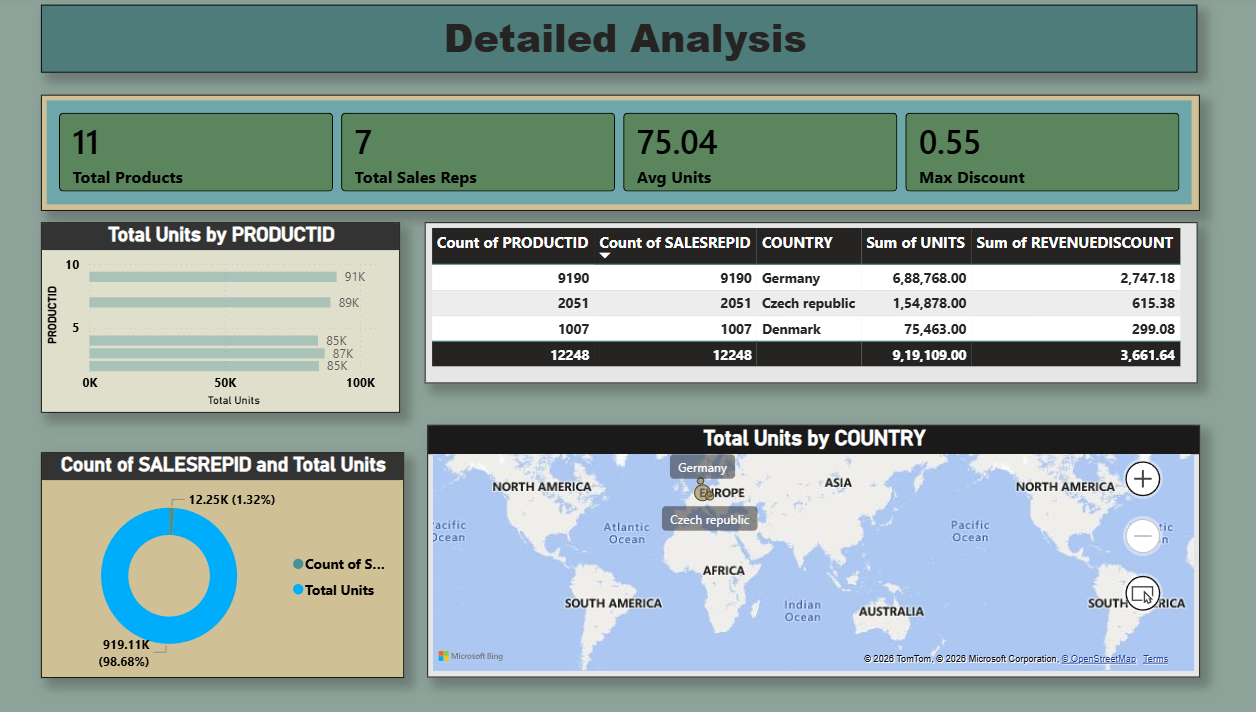

The page's visual inventory and layout, read from the dashboard file:
{"tool":"powerbi","page":{"name":"Page 2","canvas":[1280,720],"ordinal":1},"visuals":[{"type":"cardVisual","fields":{"Data":["SALES_2014.Total Products","SALES_2014.Total Sales Reps","SALES_2014.Avg Units","SALES_2014.Max Discount"]},"box":[78.2,96.1,1133.5,113.9],"z":0},{"type":"clusteredBarChart","fields":{"Y":["CountNonNull(SALES_2014.PRODUCTID)","SALES_2014.Total Units"]},"box":[78.2,220.9,351.3,186.6],"z":1000},{"type":"donutChart","fields":{"Y":["CountNonNull(SALES_2014.SALESREPID)","SALES_2014.Total Units"]},"box":[78.2,446,355.4,220.9],"z":2000},{"type":"tableEx","fields":{"Values":["CountNonNull(SALES_2014.PRODUCTID)","CountNonNull(SALES_2014.SALESREPID)","SALES_2014.COUNTRY","Sum(SALES_2014.UNITS)","Sum(SALES_2014.REVENUEDISCOUNT)"]},"box":[454.2,220.9,756.1,157.8],"z":3000},{"type":"map","fields":{"Category":["SALES_2014.COUNTRY"],"Size":["SALES_2014.Total Units"]},"box":[455.6,419.9,756.1,247],"z":4000},{"type":"textbox","box":[78.3,8.6,1131.1,66],"z":5000}]}

Visuals, with their boxes in screenshot pixels (x1, y1, x2, y2), scaled from the page's 1280x720 canvas onto the 1256x712 screenshot:
cardVisual - SALES_2014.Total Products x SALES_2014.Total Sales Reps: [left=77, top=95, right=1189, bottom=208]
clusteredBarChart - CountNonNull(SALES_2014.PRODUCTID) x SALES_2014.Total Units: [left=77, top=218, right=421, bottom=403]
donutChart - CountNonNull(SALES_2014.SALESREPID) x SALES_2014.Total Units: [left=77, top=441, right=425, bottom=659]
tableEx - CountNonNull(SALES_2014.PRODUCTID) x CountNonNull(SALES_2014.SALESREPID): [left=446, top=218, right=1188, bottom=374]
map - SALES_2014.COUNTRY x SALES_2014.Total Units: [left=447, top=415, right=1189, bottom=659]
textbox: [left=77, top=9, right=1187, bottom=74]
